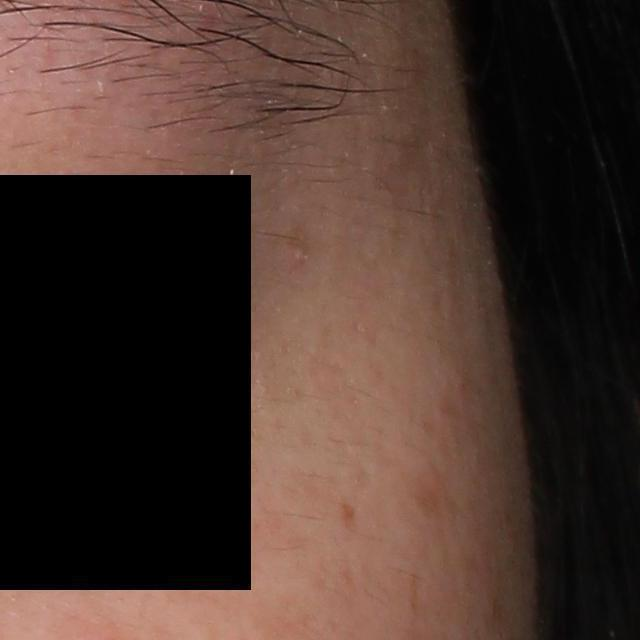melasma: (340, 499, 361, 535)
